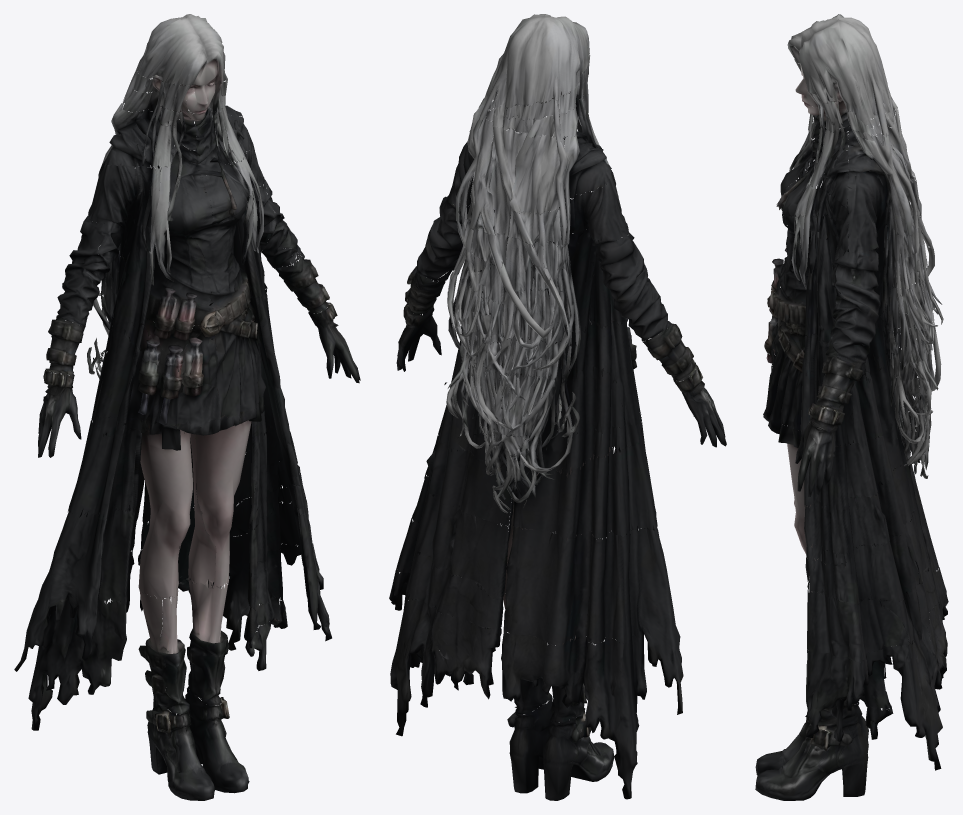
Rendered from sera_tex_lo.glb.
3 views of the same model, side by side, from view 1: azimuth 30°, elevation 25°; view 2: azimuth 150°, elevation 25°; view 3: azimuth 270°, elevation 25° (orthographic). The views are drawn at different scales.
Visible parts, largest first — view 1: Mesh; view 2: Mesh; view 3: Mesh.
Boxes of the visible parts, box(x1,y1,x2,y2) form: Mesh: box(14, 14, 360, 800); Mesh: box(389, 14, 726, 800); Mesh: box(755, 14, 948, 800).
Size of the model in its own units: 0.7671 by 1.72 by 0.3921.
1 material, 1 textured.
